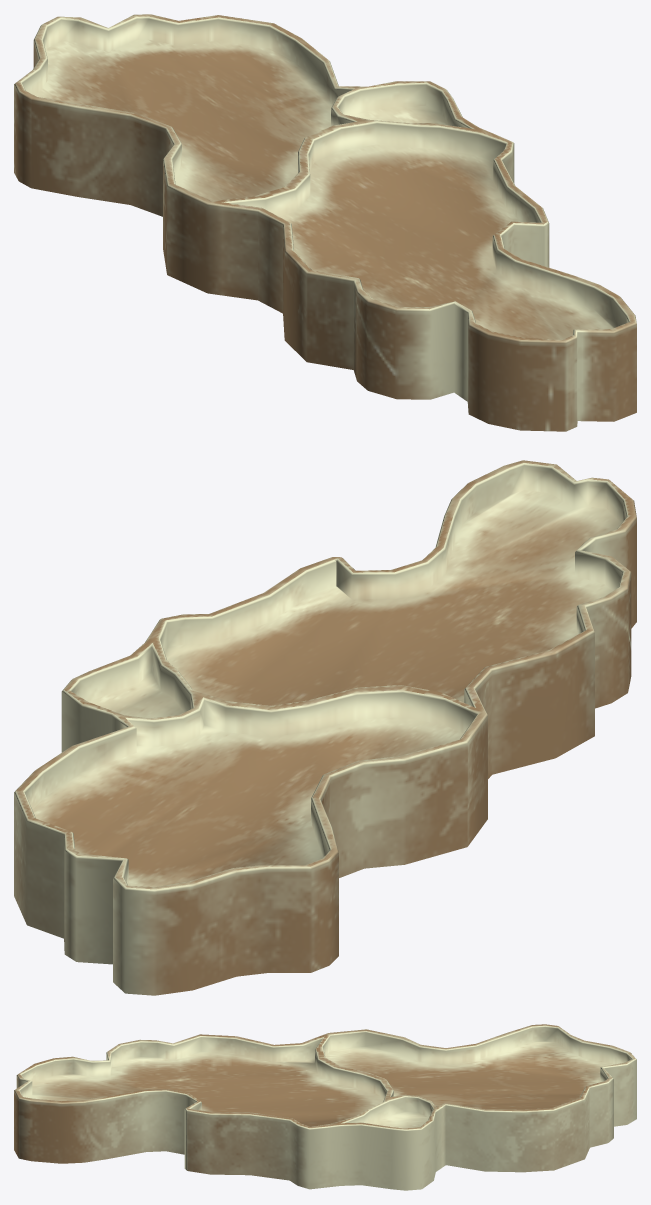
Rendered from Plates_Long.fbx.
3 renders of one model, top to bottom at view 1: azimuth 30°, elevation 25°; view 2: azimuth 150°, elevation 25°; view 3: azimuth 270°, elevation 25°, orthographic. The views are drawn at different scales.
Parts seen in each view (by area): view 1: pCylinder3; view 2: pCylinder3; view 3: pCylinder3.
Part boxes in pixels (x1,y1,x2,y2): pCylinder3: (14,14,636,431); pCylinder3: (14,460,636,995); pCylinder3: (14,1024,636,1190).
Bounding box in the file's own units: 18.99 × 5.03 × 46.99.
